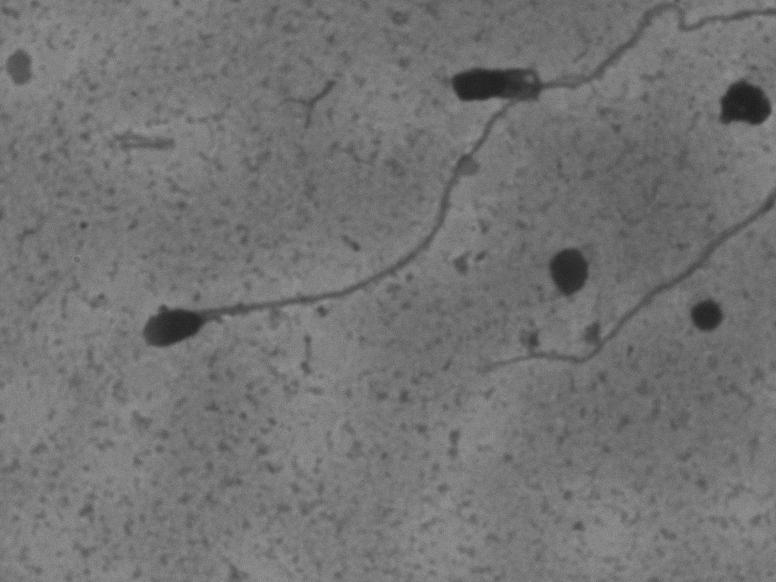Normal: (123, 19, 640, 368)
